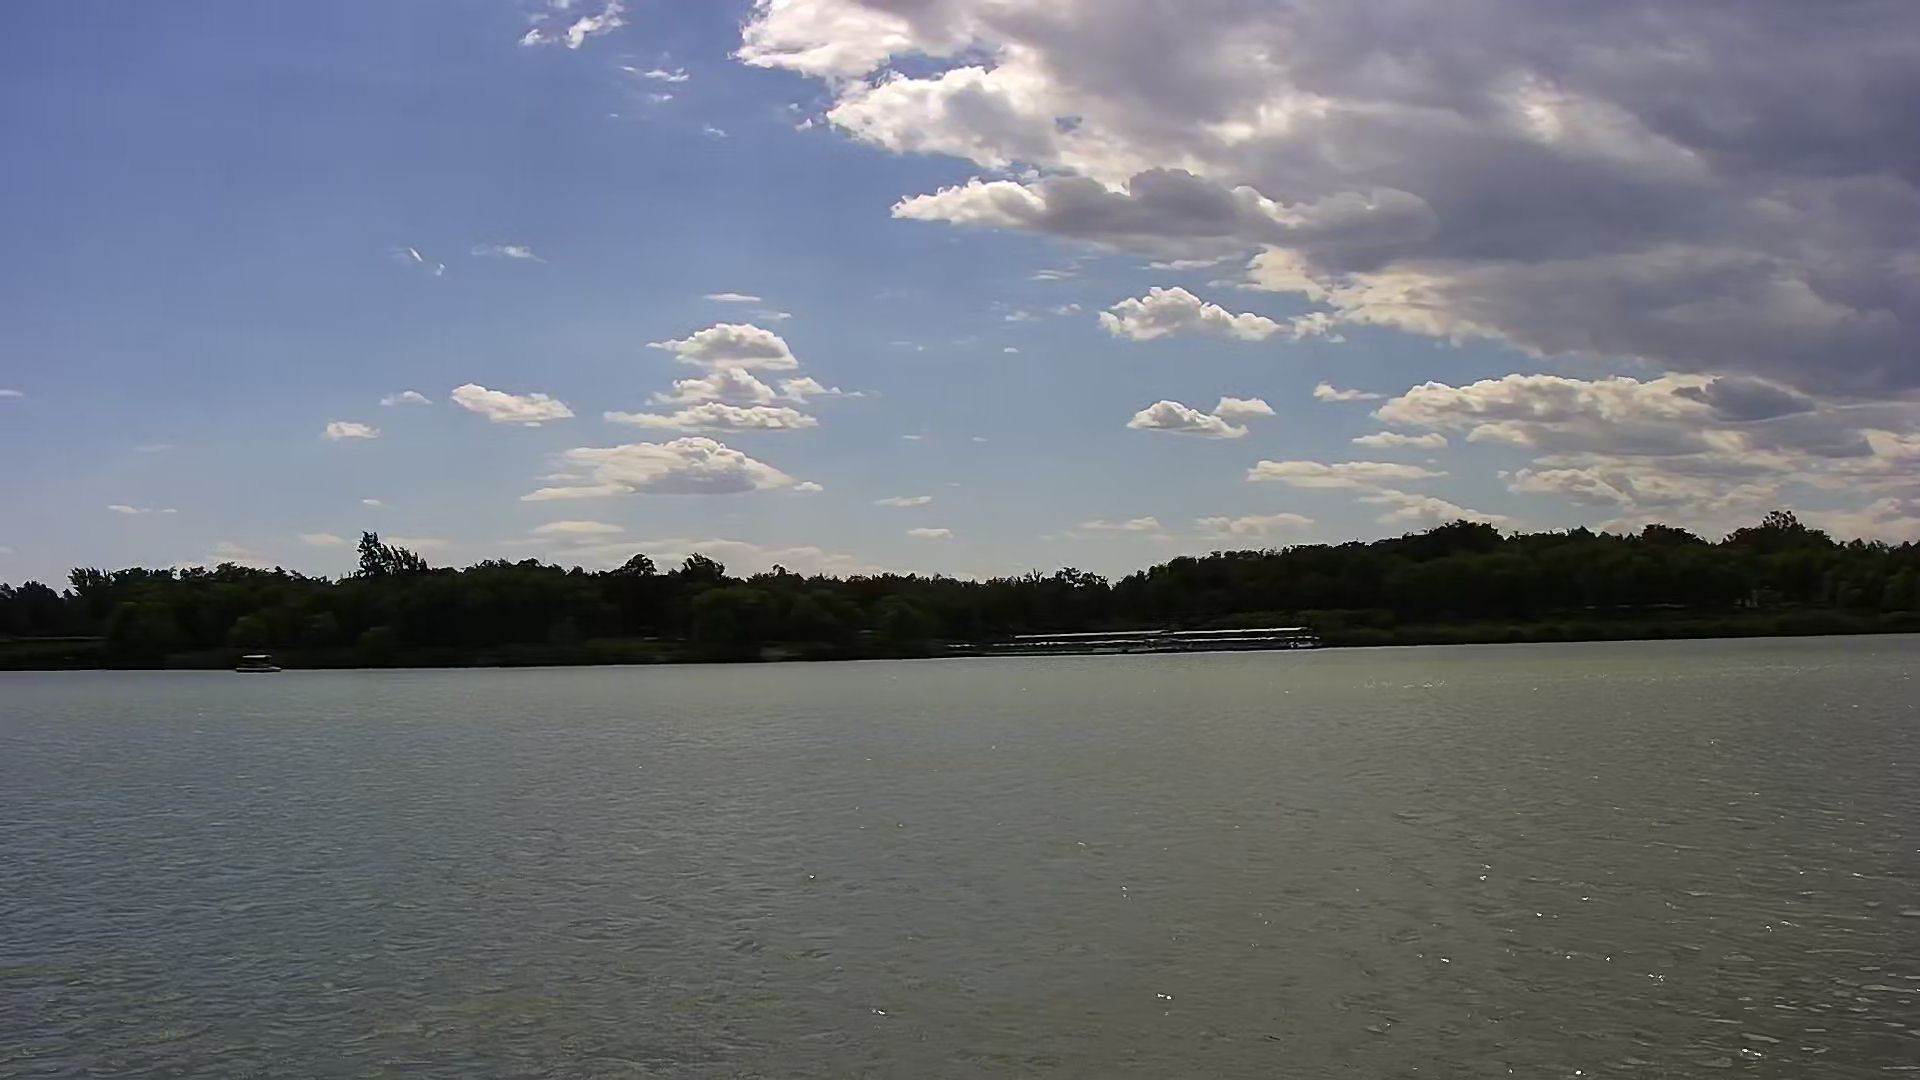boat: (232, 644, 282, 673)
harbor: (939, 615, 1327, 658)
